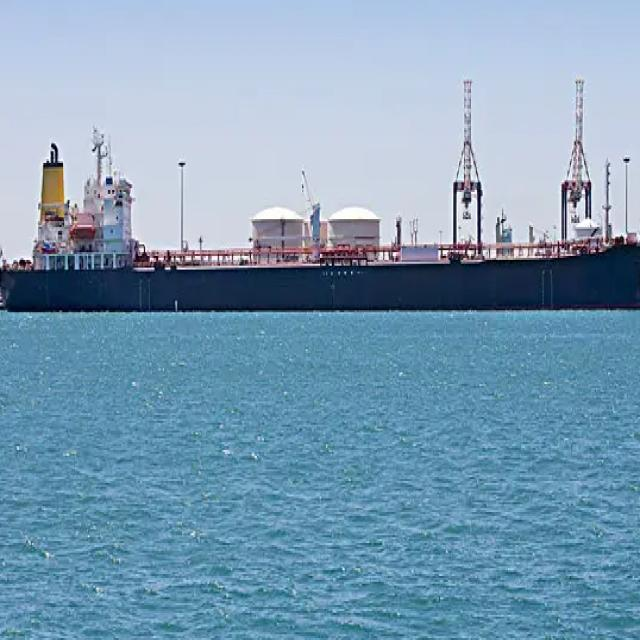cargoship: (0, 76, 640, 322)
